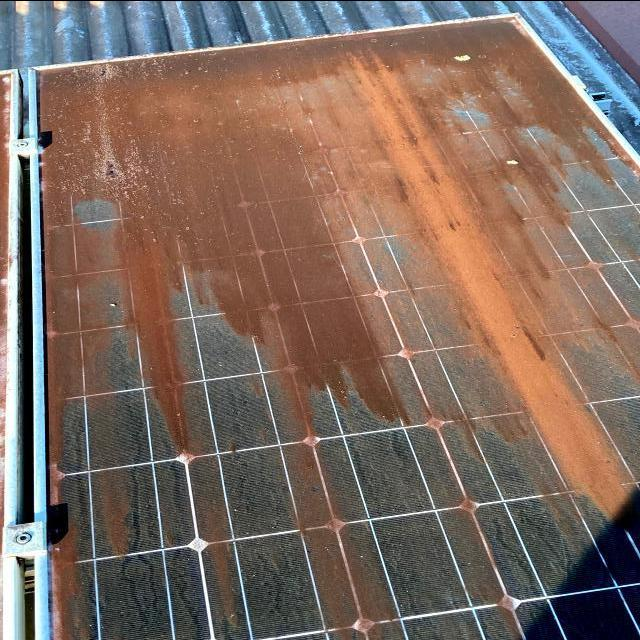soiled: (19, 12, 639, 638)
